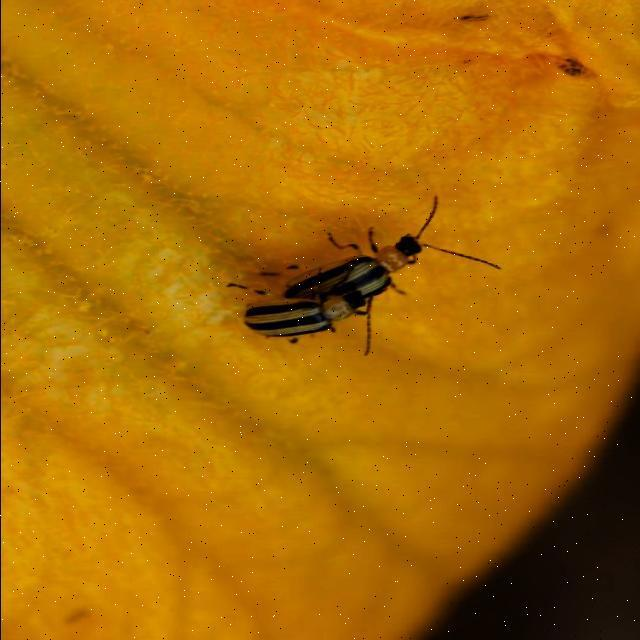trips: (256, 195, 502, 318), (229, 284, 369, 354)
